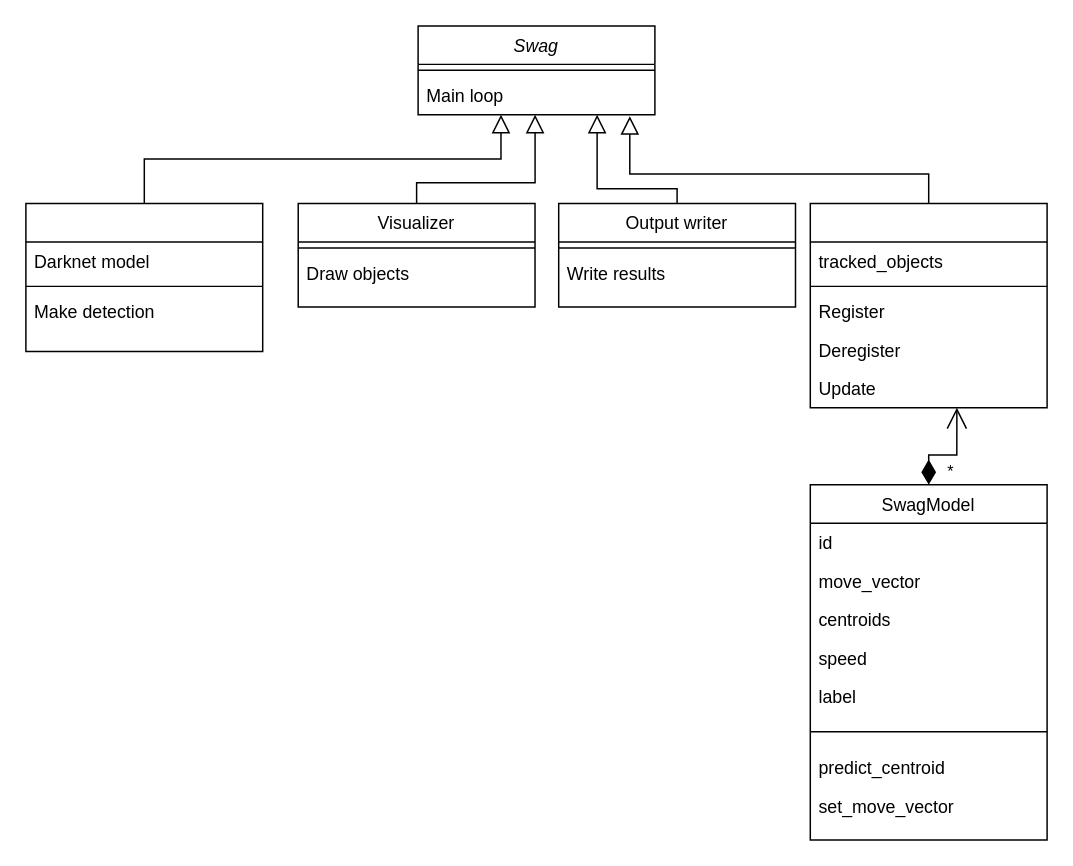
This 1073x866 diagram has some shape labels left out. Here are the shapes that lost their labels. From the top down, the box of each, then its label:
(24, 202, 263, 352): YOLO
(809, 202, 1047, 408): Tracker
